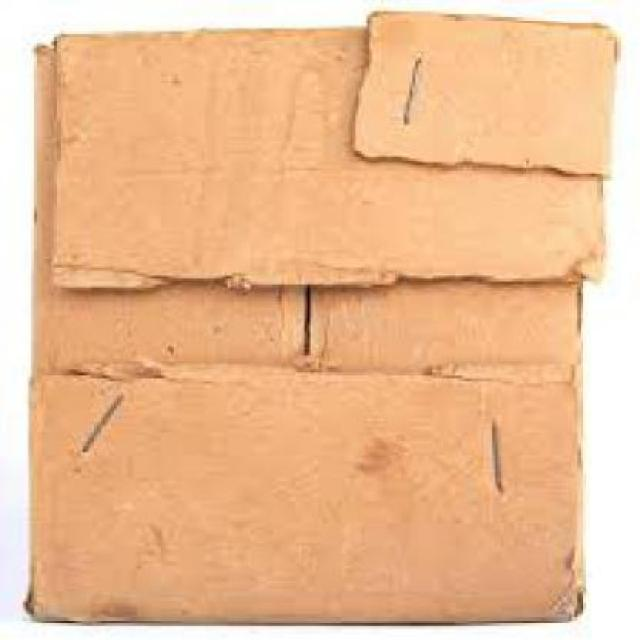PaperCardboard: (32, 7, 623, 636)
